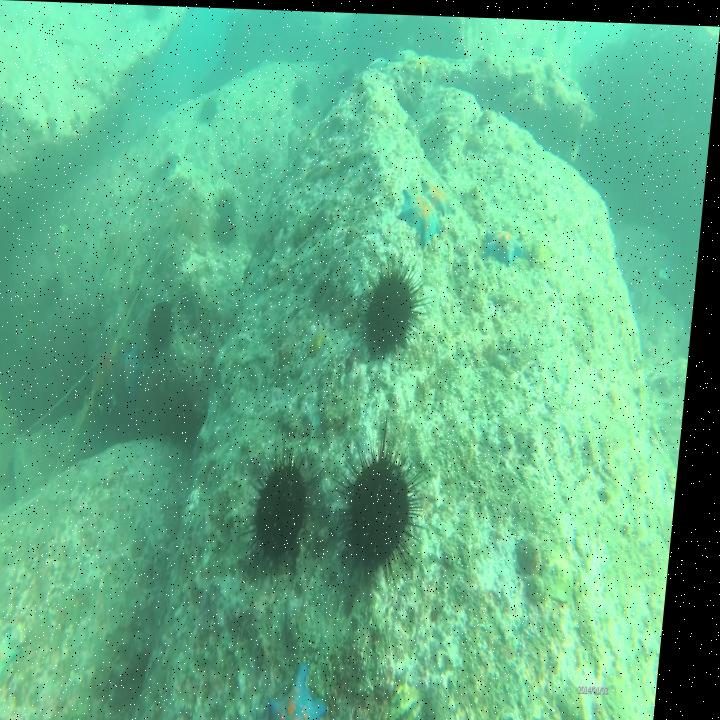echinus: (339, 424, 437, 574), (253, 441, 324, 573), (363, 253, 429, 360), (149, 300, 183, 351), (218, 211, 244, 246), (217, 184, 242, 219), (291, 75, 314, 111), (200, 96, 221, 124)
starfish: (279, 658, 346, 720), (0, 630, 36, 706), (401, 182, 449, 239), (484, 220, 530, 264), (422, 172, 462, 211), (125, 342, 152, 398), (413, 48, 435, 78)
